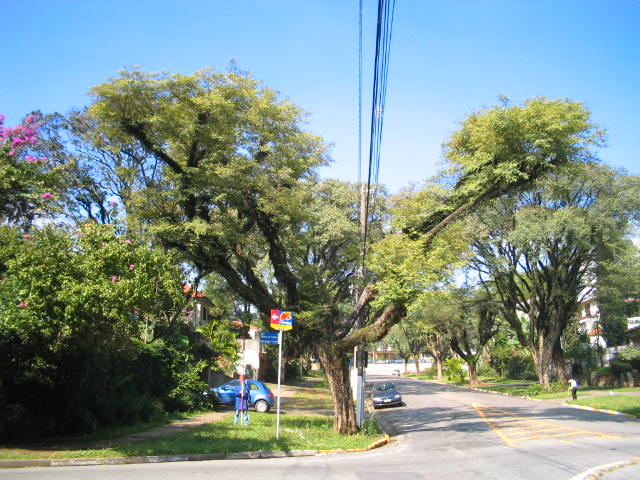crown: (84, 60, 607, 336)
stem: (305, 347, 366, 436)
stick: (236, 335, 248, 426)
tree: (81, 58, 610, 436)
